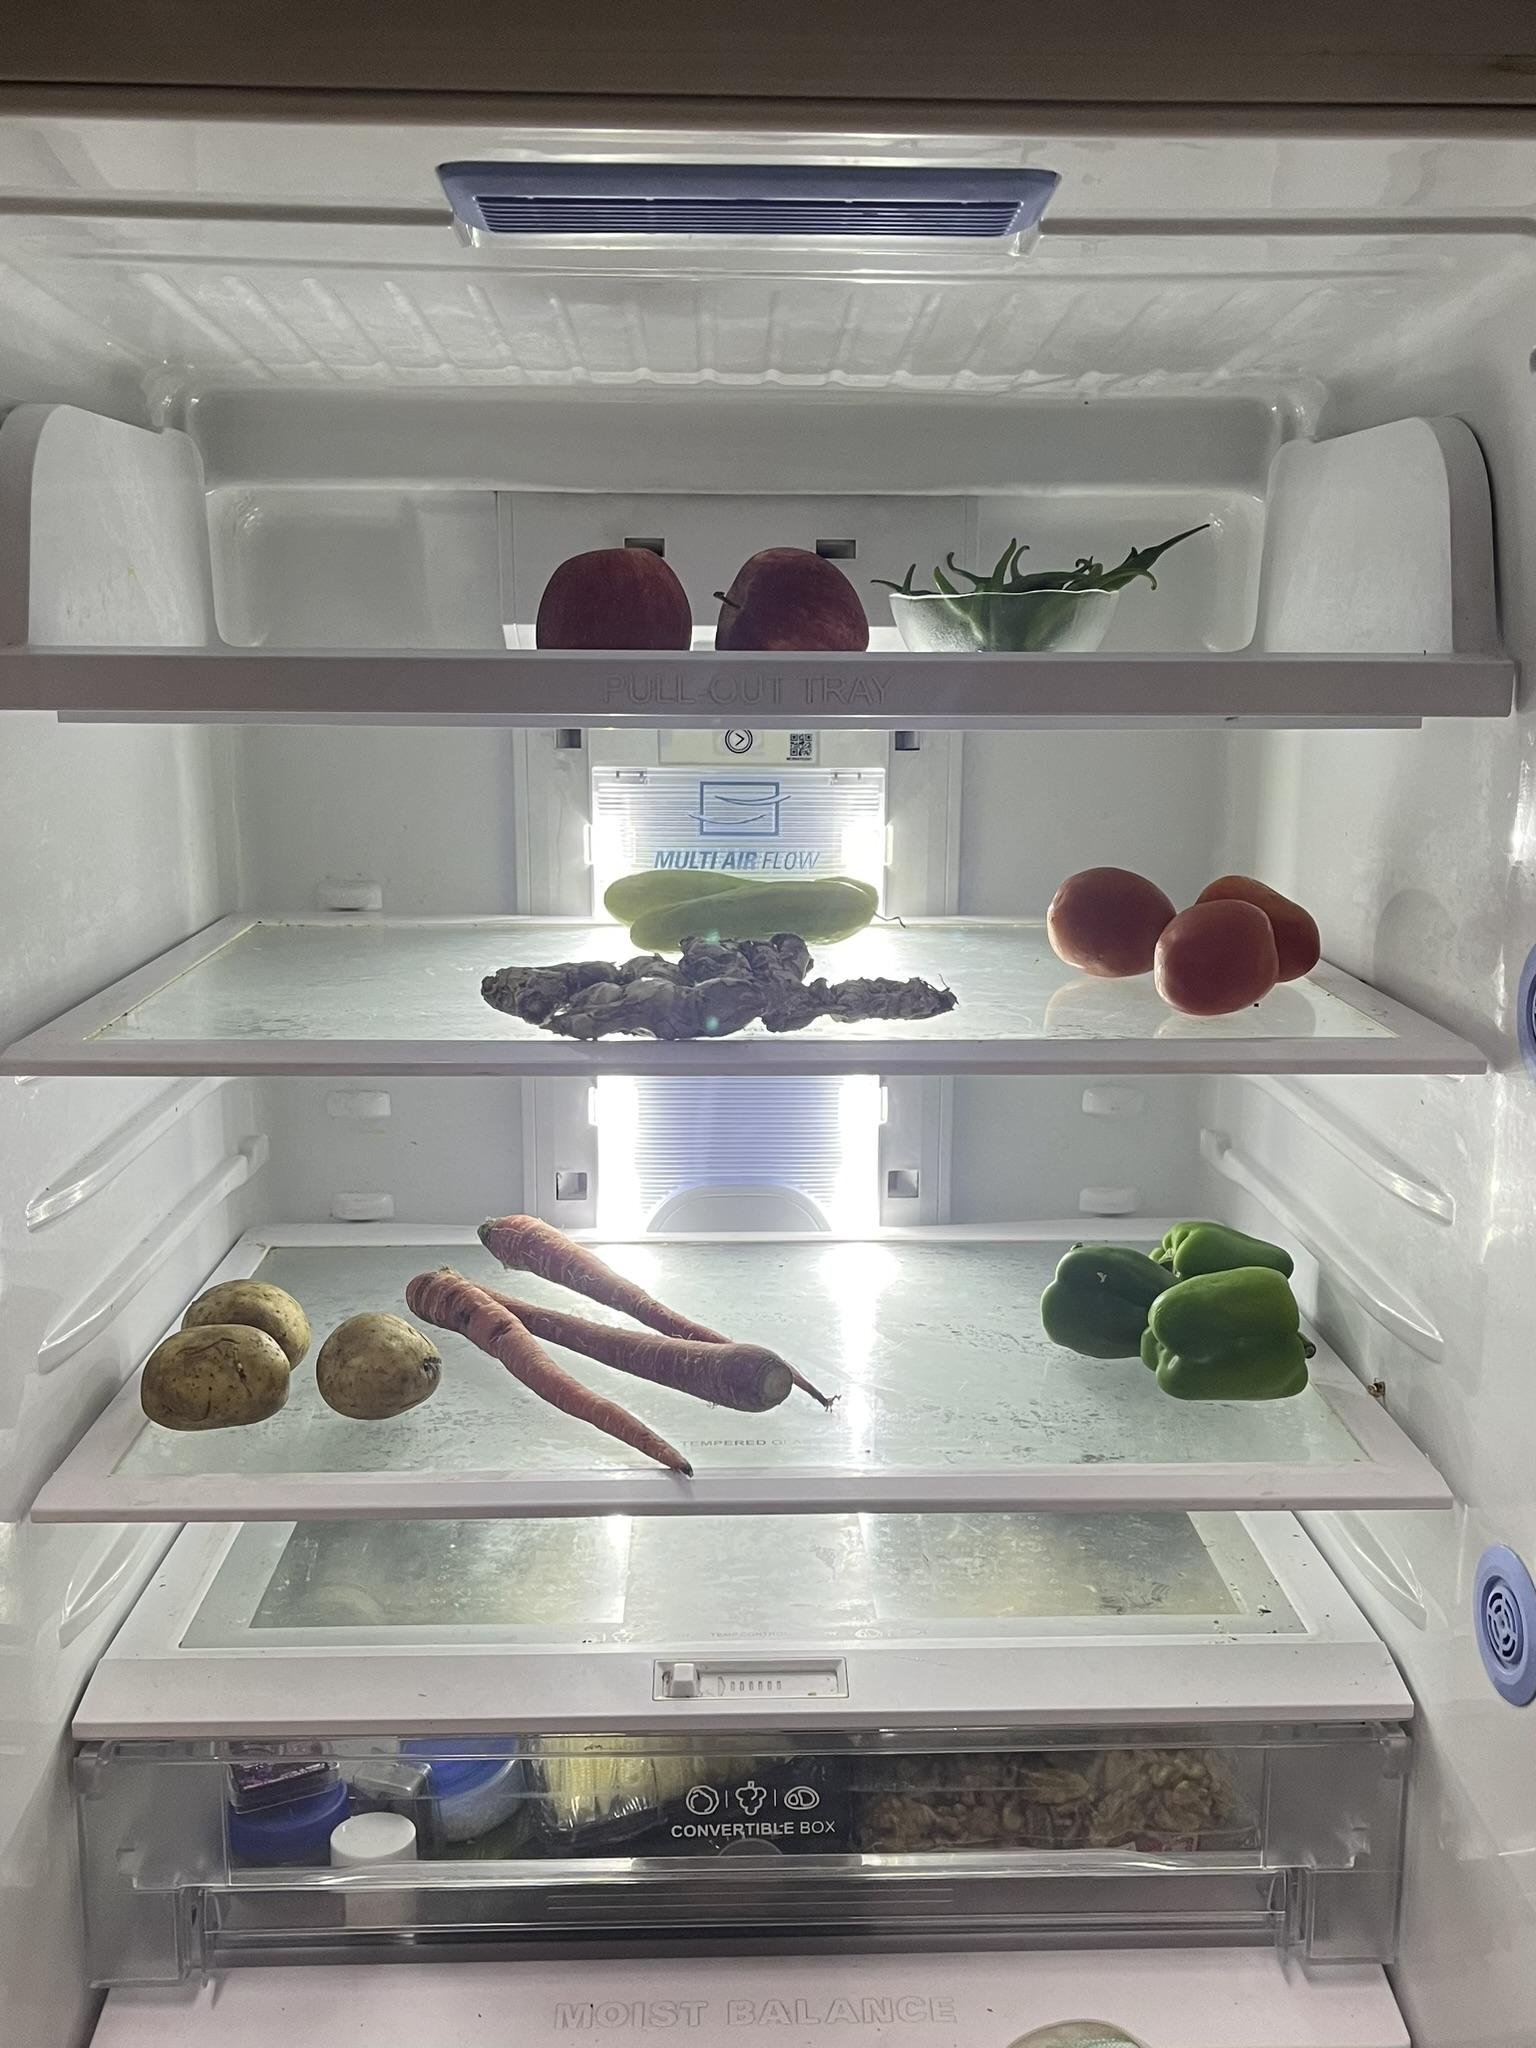apple: (703, 537, 879, 656), (534, 534, 700, 650)
capsicum: (1037, 1206, 1326, 1413)
carrots: (419, 1209, 813, 1450)
chillies: (900, 510, 1163, 656)
cucumber: (597, 866, 891, 937)
ginger: (473, 930, 963, 1034)
potato: (137, 1271, 307, 1437), (303, 1303, 460, 1421)
tomato: (1044, 856, 1323, 1013)
